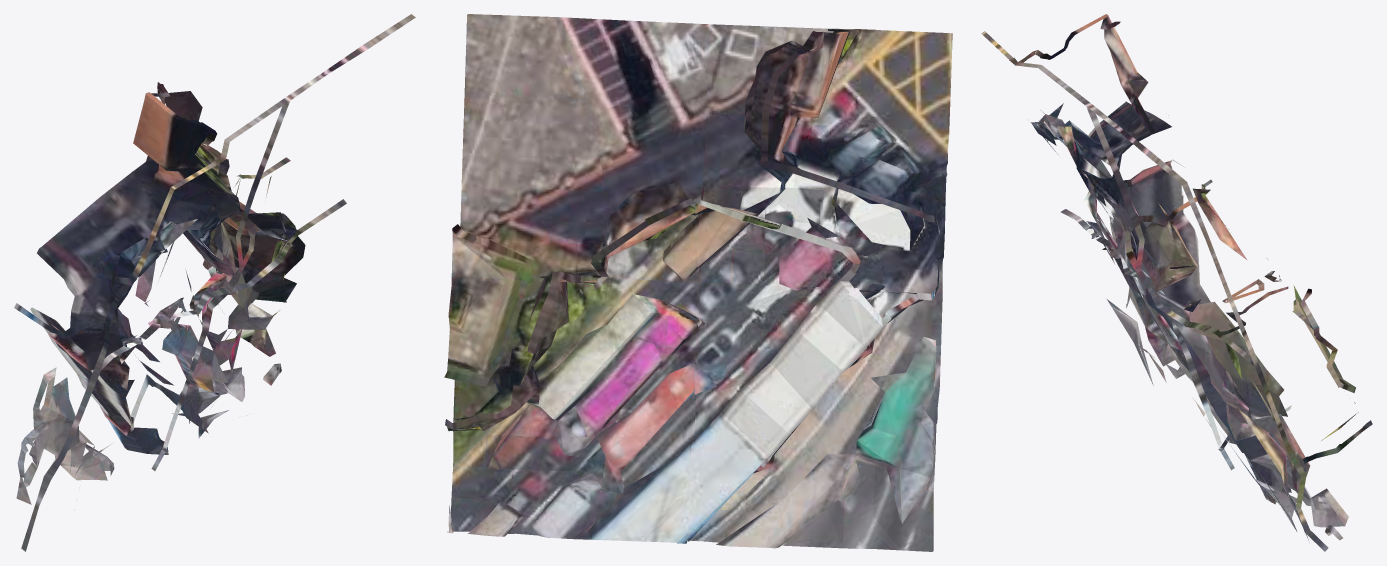
The model's file is AJVsH2ycv-tn53oLn0G1S5lJeE7mNNNzl07P1ezTF4DvOgL5AGKsbZGfdDOg-6l_dMnaN4dhM_ZcsHvaz_yZUXxJ02NmgNVHZ0OW2JCKz4C3x2fGTjHsCI5jIDPTxDCFOj5idc3ImO4OUhR6j_WNVgUzCtoD.glb.
3 views of the same model, side by side, from view 1: azimuth 30°, elevation 25°; view 2: azimuth 150°, elevation 25°; view 3: azimuth 270°, elevation 25° (orthographic). The views are drawn at different scales.
Bounding box in the file's own units: 37.76 × 38.82 × 32.3.
1 material, 1 textured.
